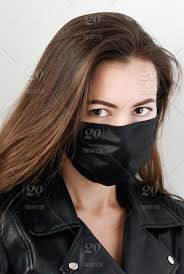with-mask: (58, 32, 165, 198)
